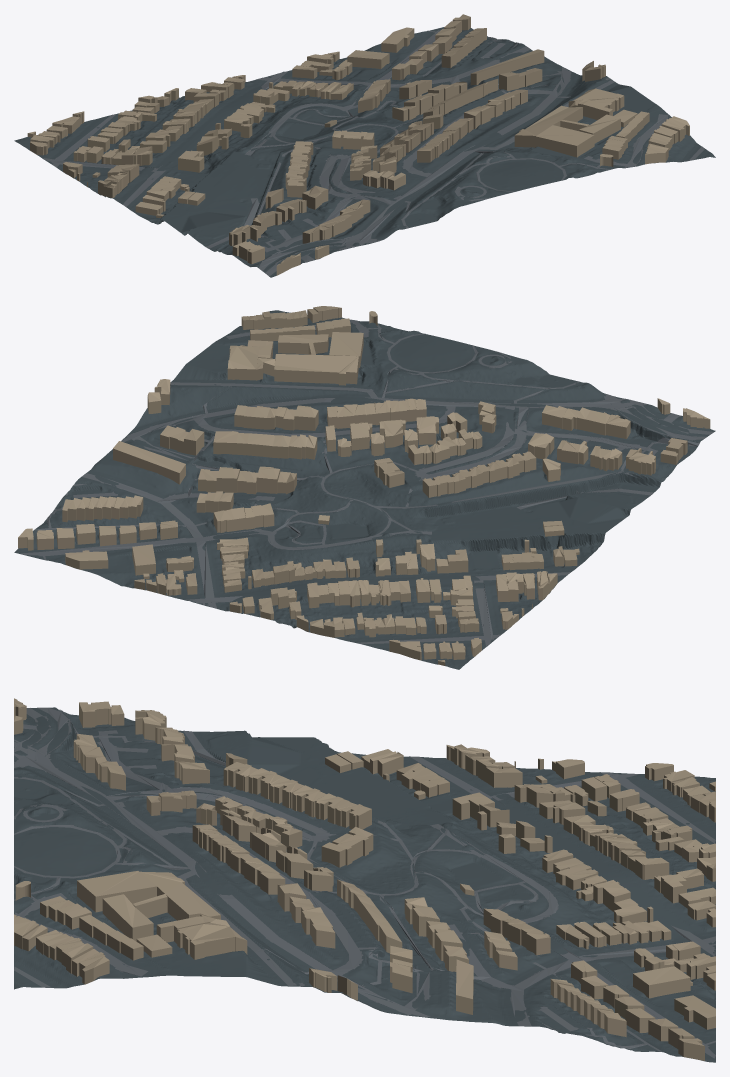
File: epsg26910-1443-10875.lod0.glb
3 renders of one model, top to bottom at view 1: azimuth 30°, elevation 25°; view 2: azimuth 150°, elevation 25°; view 3: azimuth 270°, elevation 25°, orthographic. The views are drawn at different scales.
Parts seen in each view (by area): view 1: epsg26910-1443-10875-lod0; view 2: epsg26910-1443-10875-lod0; view 3: epsg26910-1443-10875-lod0.
Boxes of the visible parts, box(x1,y1,x2,y2) form: epsg26910-1443-10875-lod0: box(14, 14, 715, 277); epsg26910-1443-10875-lod0: box(14, 306, 715, 669); epsg26910-1443-10875-lod0: box(14, 698, 715, 1062).
Bounding box in the file's own units: 384 × 72.46 × 384.
